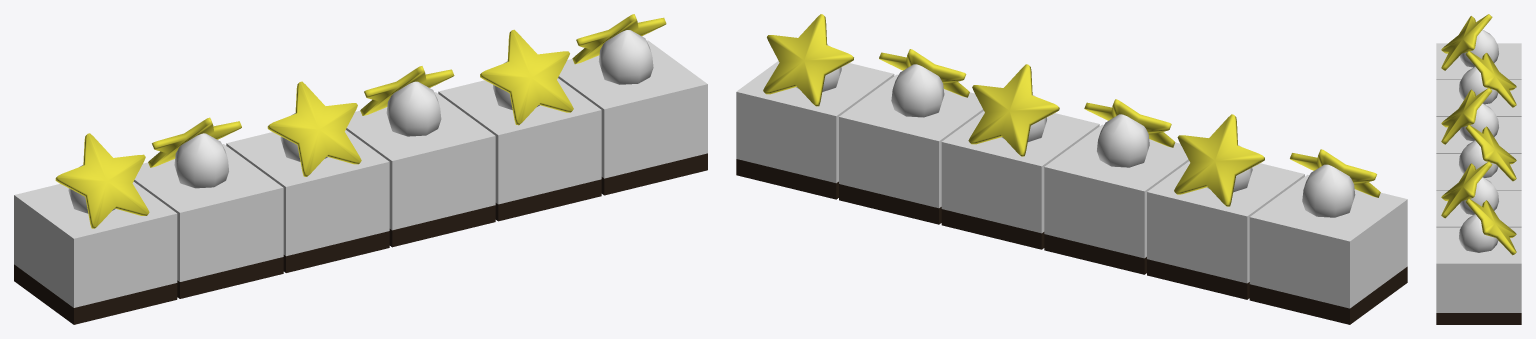
Rendered from cake_brown_front_6.fbx.
The picture shows the model from 3 angles, left to right: view 1: azimuth 30°, elevation 25°; view 2: azimuth 150°, elevation 25°; view 3: azimuth 270°, elevation 25°; orthographic projection. The views are drawn at different scales.
Parts seen in each view (by area): view 1: 立方体.036; view 2: 立方体.036; view 3: 立方体.036.
Part boxes in pixels (x1,y1,x2,y2): 立方体.036: (14, 14, 707, 324); 立方体.036: (736, 14, 1407, 324); 立方体.036: (1436, 14, 1521, 324).
Bounding box in the file's own units: 89.42 × 20.47 × 14.6.
